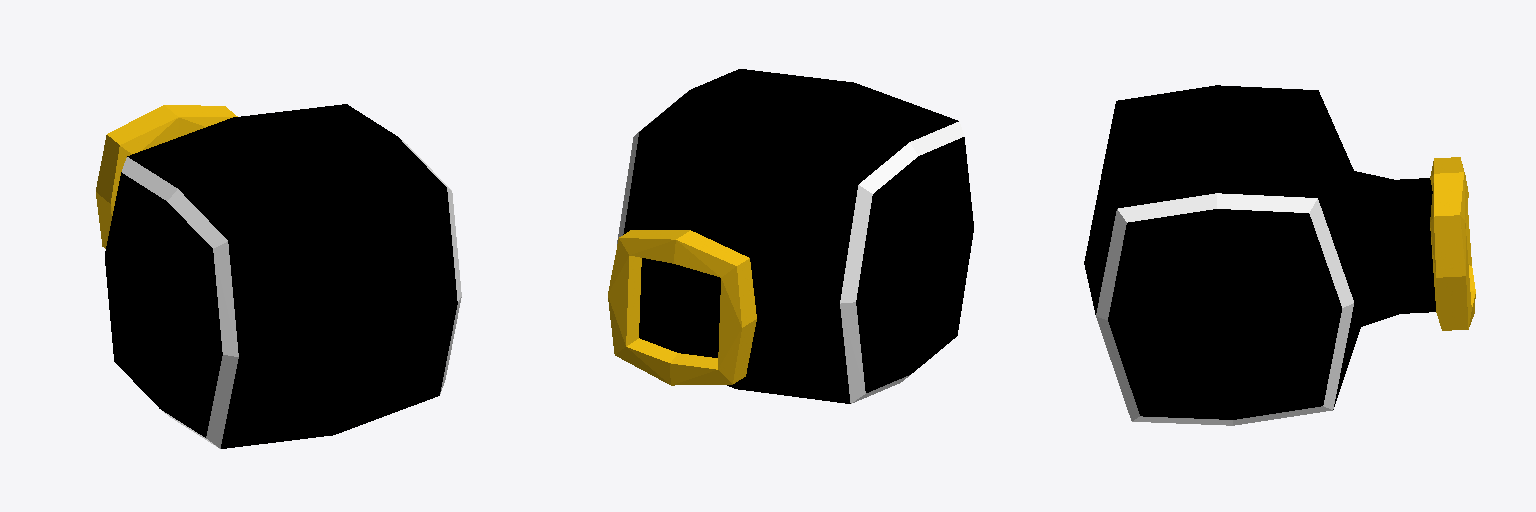
3 views of the same model, side by side, from view 1: azimuth 30°, elevation 25°; view 2: azimuth 150°, elevation 25°; view 3: azimuth 270°, elevation 25° (orthographic).
Visible parts, largest first — view 1: pCube76; view 2: pCube76; view 3: pCube76.
Part boxes in pixels (bbox=[...]): pCube76: bbox=[96, 104, 461, 448]; pCube76: bbox=[608, 69, 973, 403]; pCube76: bbox=[1084, 85, 1475, 425].
Size of the model in its own units: 0.5436 by 0.5303 by 0.7422.
1 materials, 1 textured.